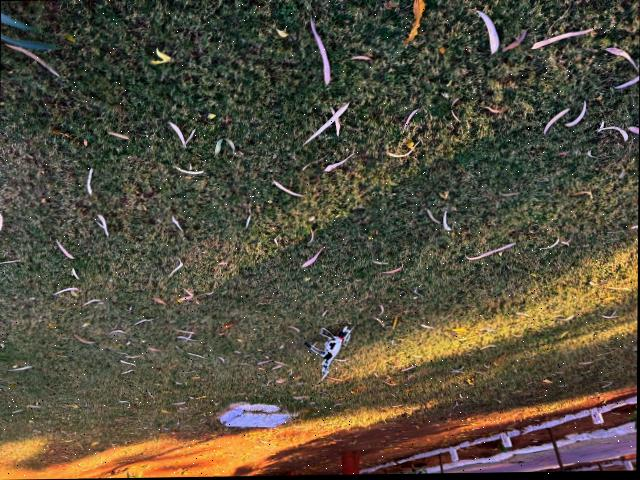drone: (283, 308, 379, 397)
